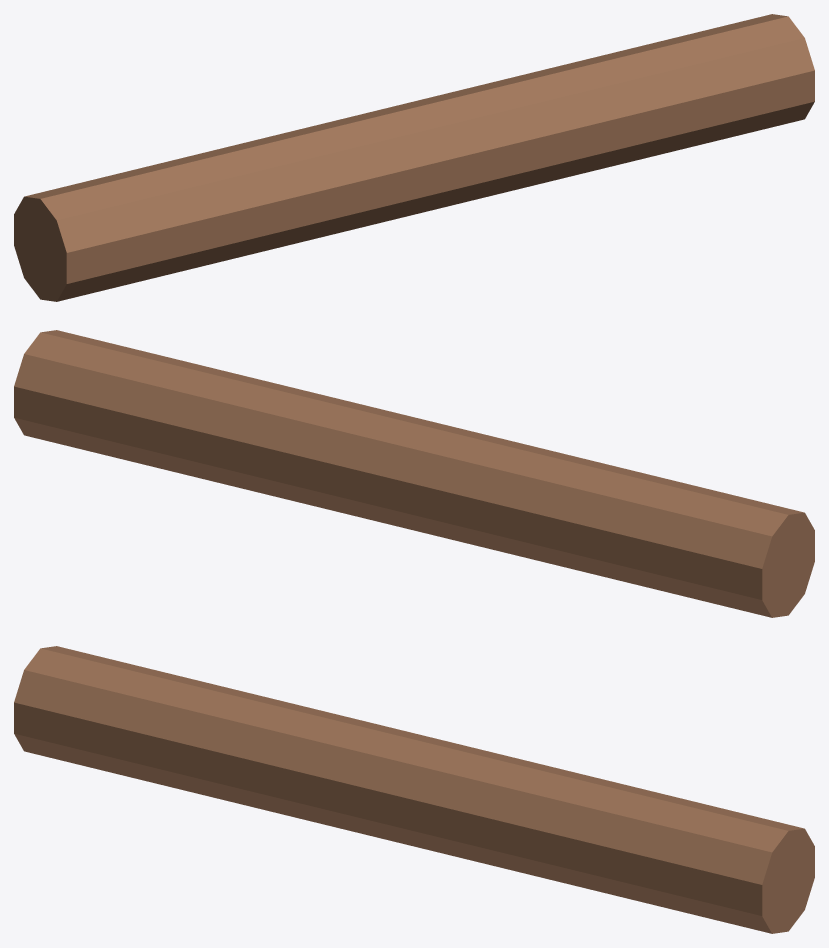
Rendered from pipe.fbx.
The picture shows the model from 3 angles, top to bottom: view 1: azimuth 30°, elevation 25°; view 2: azimuth 150°, elevation 25°; view 3: azimuth 330°, elevation 25°; orthographic projection.
Parts seen in each view (by area): view 1: pipe; view 2: pipe; view 3: pipe.
Part boxes in pixels (x1,y1,x2,y2): pipe: (14, 14, 814, 301); pipe: (14, 330, 814, 617); pipe: (14, 646, 814, 933).
Size of the model in its own units: 0.14 by 0.018 by 0.0171.
